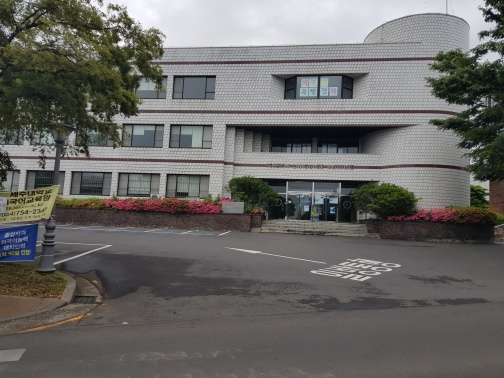Foreign Language Institute: (73, 30, 485, 251), (231, 142, 393, 238), (118, 110, 222, 158), (265, 69, 376, 107)
